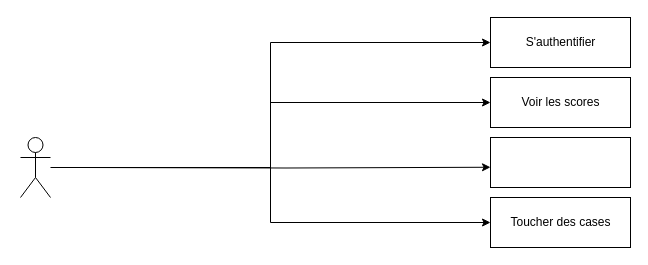
The diagram is 648 pixels wide and 265 high, and some of its shapes have lost their labels. Each missing label, with the centre of its shape:
Joueur: the point at 35,167
Voir l'aide du jeu: the point at 560,162
